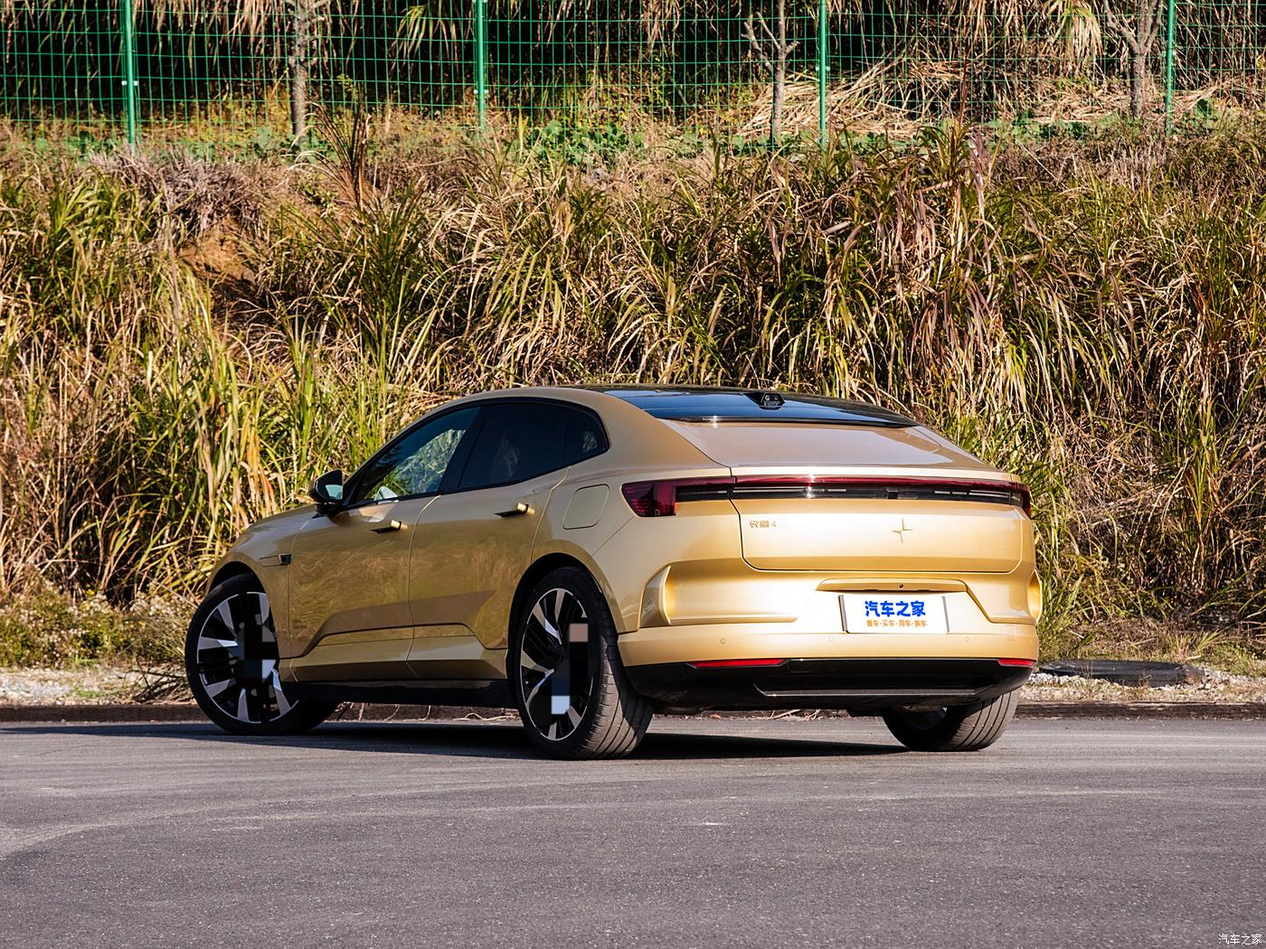Polestar: (893, 518, 912, 542)
